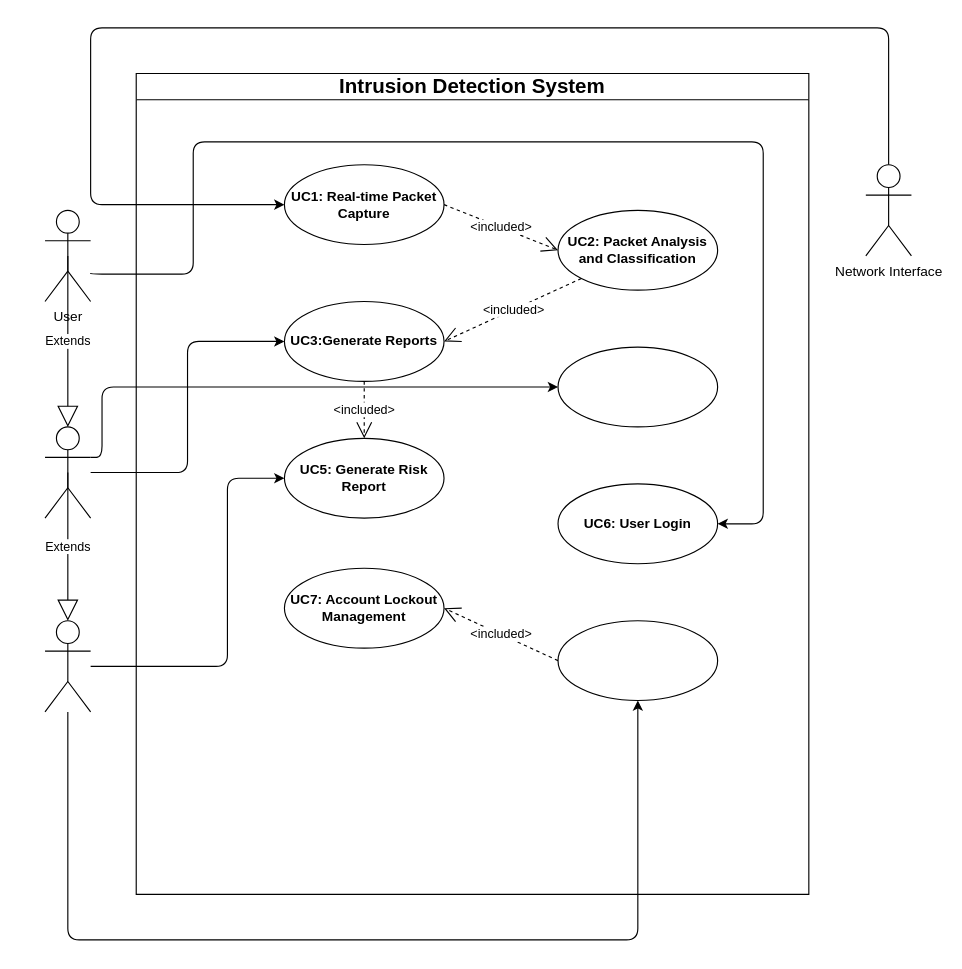
This 962x969 diagram has some shape labels left out. Each missing label, with the centre of its shape:
Security Analyst: the point at 67,472
System Admin: the point at 67,666
UC4: Control Network Monitoring: the point at 637,386
UC8: User Management: the point at 637,660
